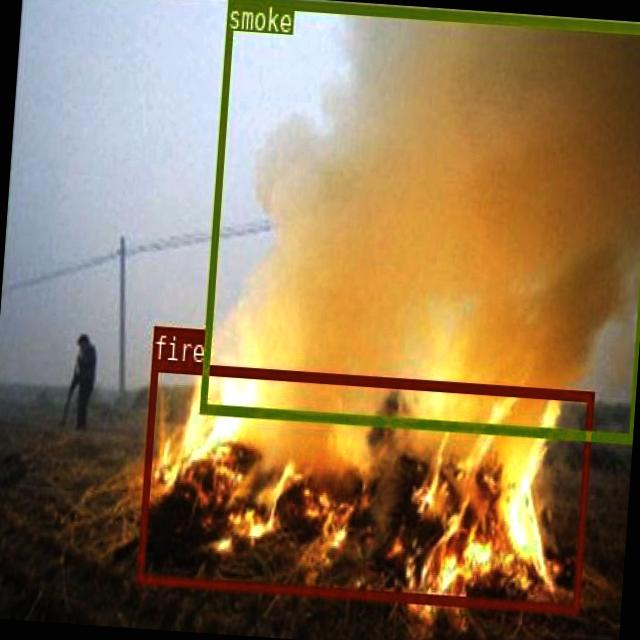fire: (136, 360, 593, 612)
smoke: (199, 0, 640, 441)
